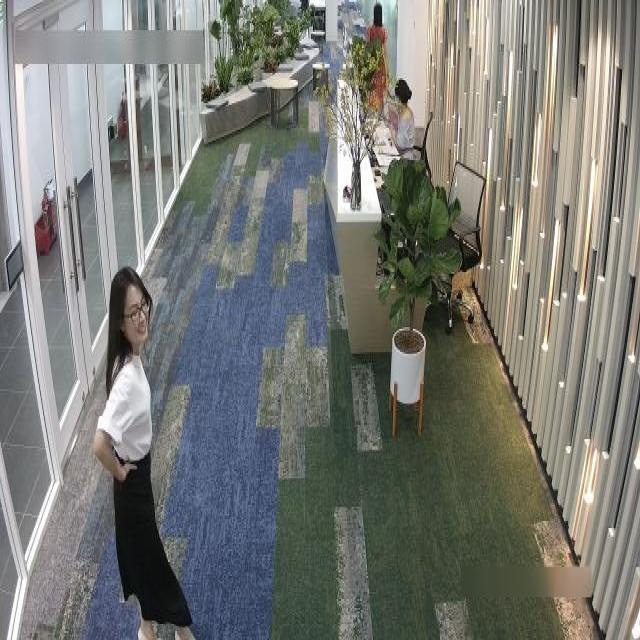bare_hand: (113, 459, 140, 494)
